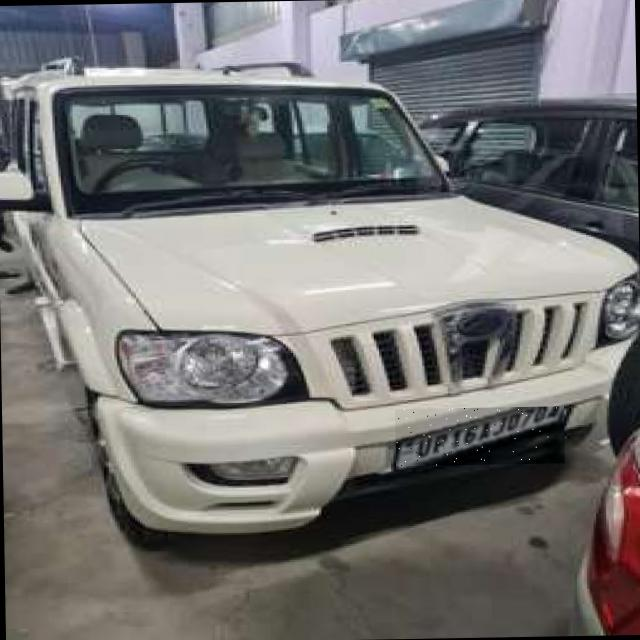Plate: (396, 407, 566, 467)
